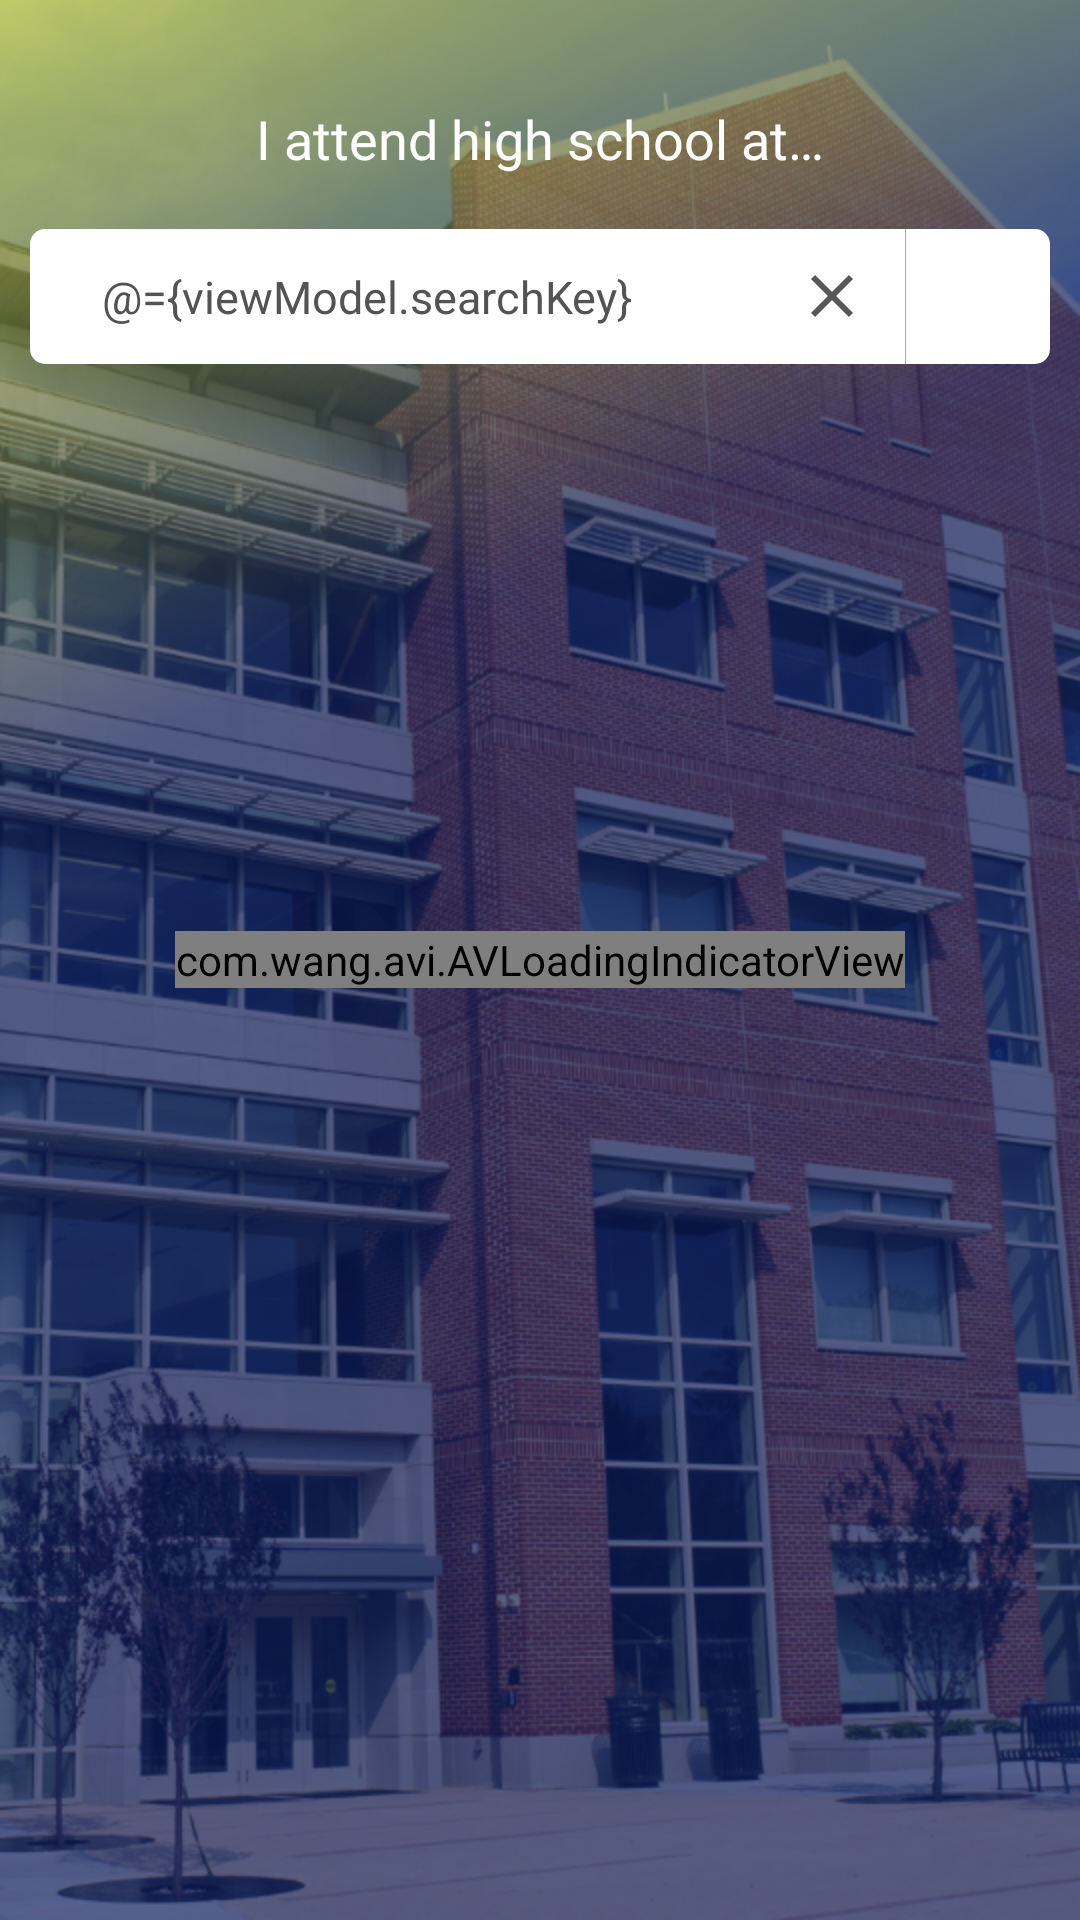

Point at icon controls on the screen. Image size 1080 x 1920, points as (x,y).
clear text button: (832,296)
